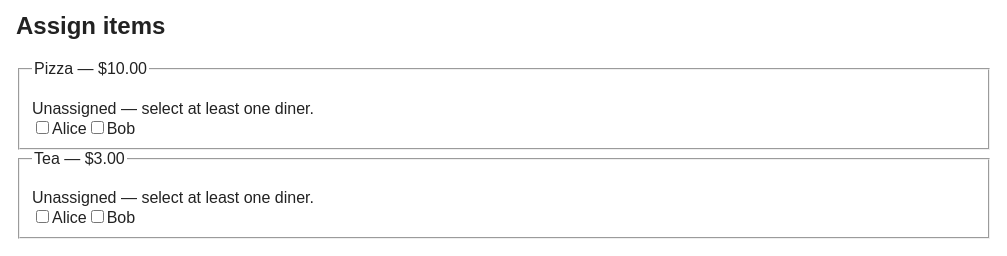
it: ItemAssignment › supports sharing and cancelling without changing other items
Click the checkbox labelled "Alice" below "Pizza". click: (42, 127)
box: [36,120,49,134]
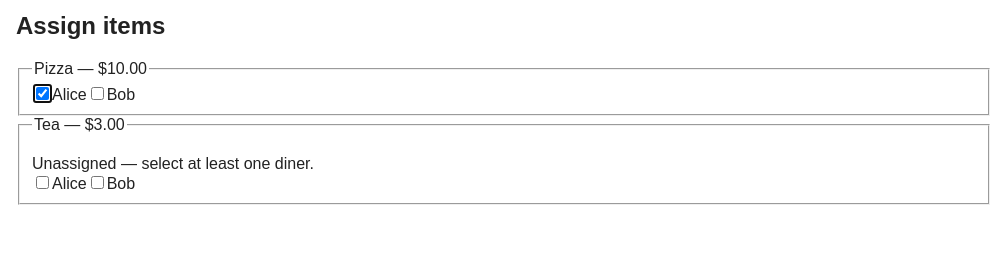
Now the checkbox labelled "Alice" below "Pizza" is checked, box [36,86,49,100]
Click the checkbox labelled "Bob" below "Pizza". click: (97, 93)
box: [91,86,104,100]
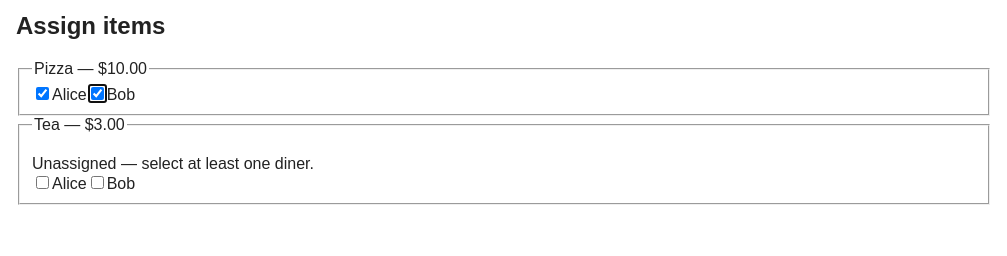
Expected: the checkbox labelled "Alice" below "Unassigned — select at least one diner." is not checked, [36,176,49,189]
Now the checkbox labelled "Alice" below "Pizza" is checked
Now the checkbox labelled "Bob" below "Pizza" is checked, box [91,86,104,100]
Click the checkbox labelled "Alice" below "Pizza". click: (42, 93)
box: [36,86,49,100]
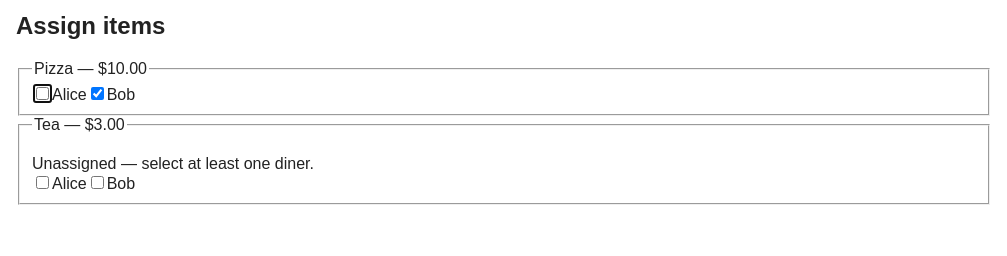
Now the checkbox labelled "Alice" below "Pizza" is not checked, box [36,86,49,100]
Now the checkbox labelled "Bob" below "Pizza" is checked
Click the checkbox labelled "Bob" below "Pizza". click: (97, 93)
box: [91,86,104,100]
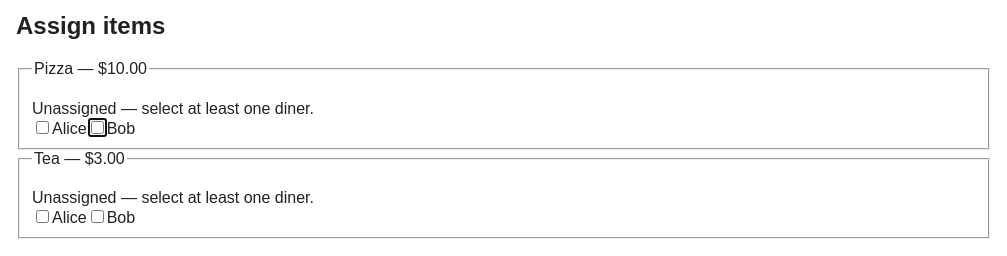
Now the checkbox labelled "Bob" below "Pizza" is not checked, box [91,120,104,134]
Now the text "Unassigned — select at least one diner." below "Pizza" is shown, box [32,100,314,116]
